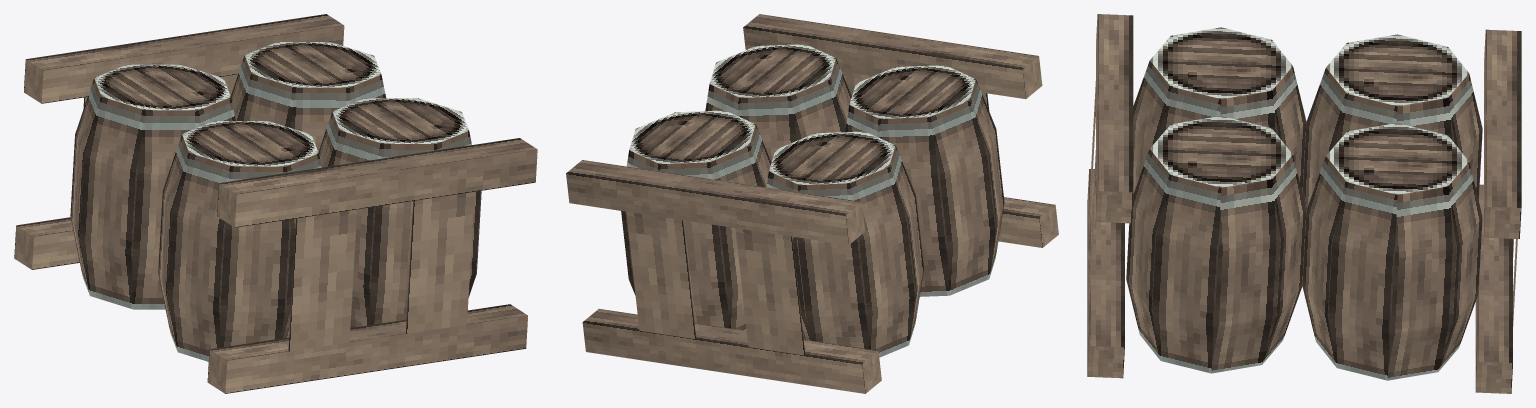
The model's file is barrels.003_lev5.glb.
3 renders of one model, left to right at view 1: azimuth 30°, elevation 25°; view 2: azimuth 150°, elevation 25°; view 3: azimuth 270°, elevation 25°, orthographic. The views are drawn at different scales.
Parts seen in each view (by area): view 1: barrels.003_lev5; view 2: barrels.003_lev5; view 3: barrels.003_lev5.
Boxes of the visible parts, x1=… form: barrels.003_lev5: x1=14, y1=14, x2=537, y2=393; barrels.003_lev5: x1=566, y1=14, x2=1058, y2=393; barrels.003_lev5: x1=1087, y1=14, x2=1521, y2=393.
Bounding box in the file's own units: 1.91 × 1.36 × 2.22.
Materials: 2 (2 with a texture image).
